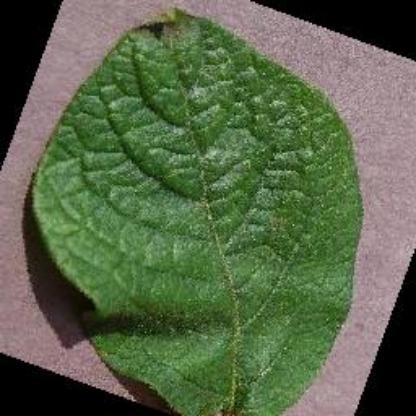Healthy-plant: (10, 11, 382, 415)
